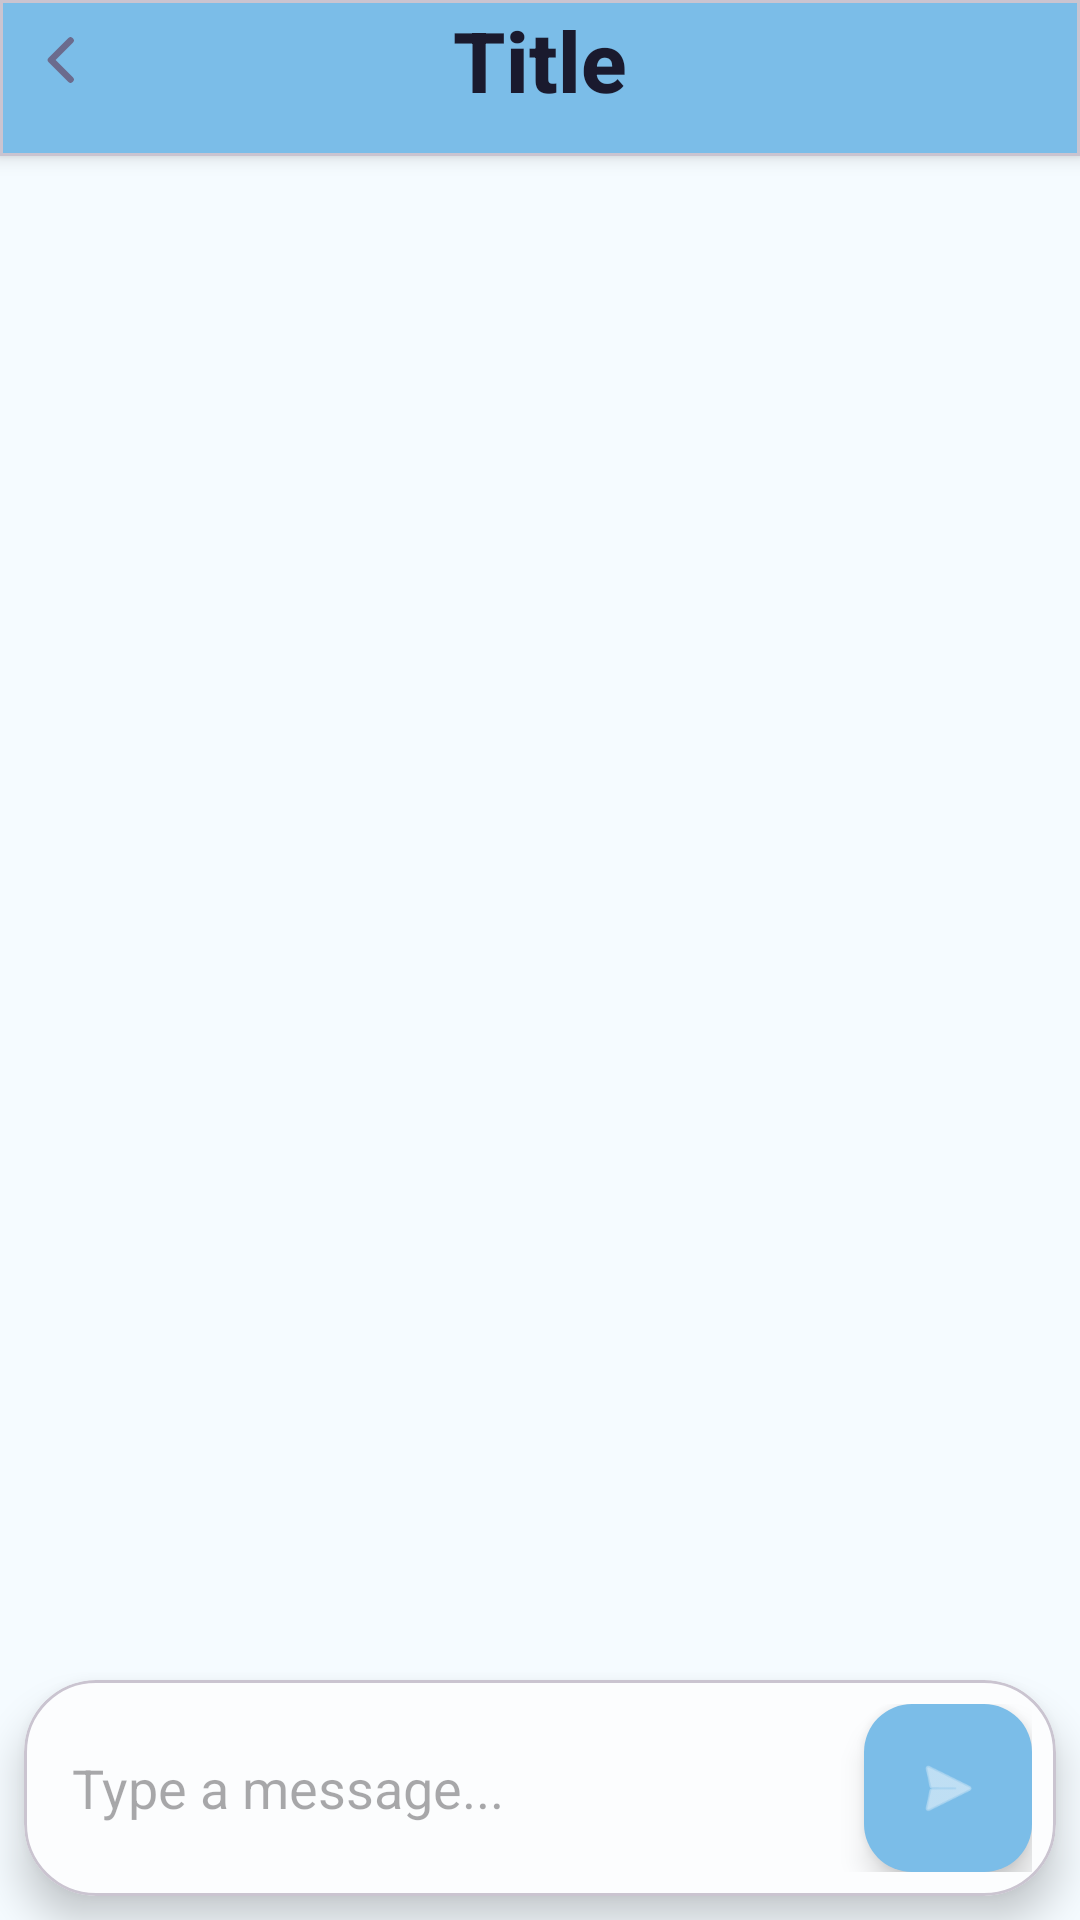

Named icons in this screenshot (1080w x 1920h) and their centers, (x=x, y=y):
Back: (x=60, y=60)
send: (x=948, y=1788)
